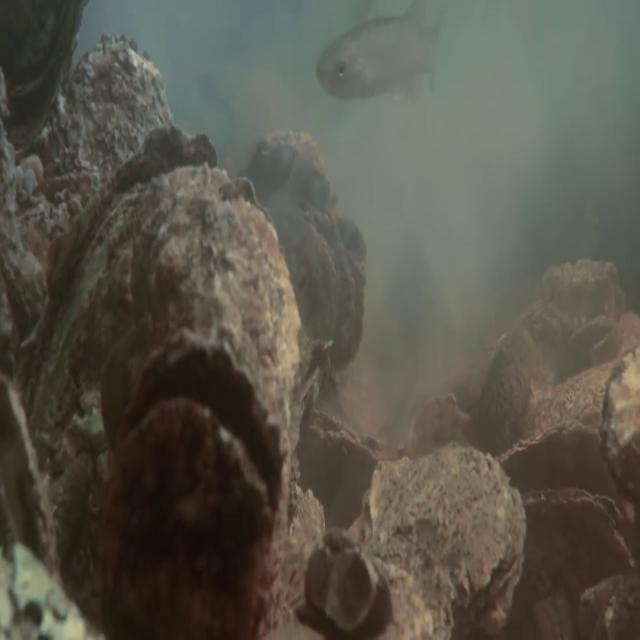Oyster-Closed: (356, 448, 531, 623), (2, 366, 68, 586), (521, 482, 636, 567), (498, 418, 598, 474)
Oyster-Indeterminate: (26, 155, 246, 453), (127, 189, 306, 419), (247, 126, 374, 363), (471, 317, 538, 441), (595, 339, 633, 513)
Oyster-Open: (105, 335, 288, 563), (554, 311, 622, 386)
